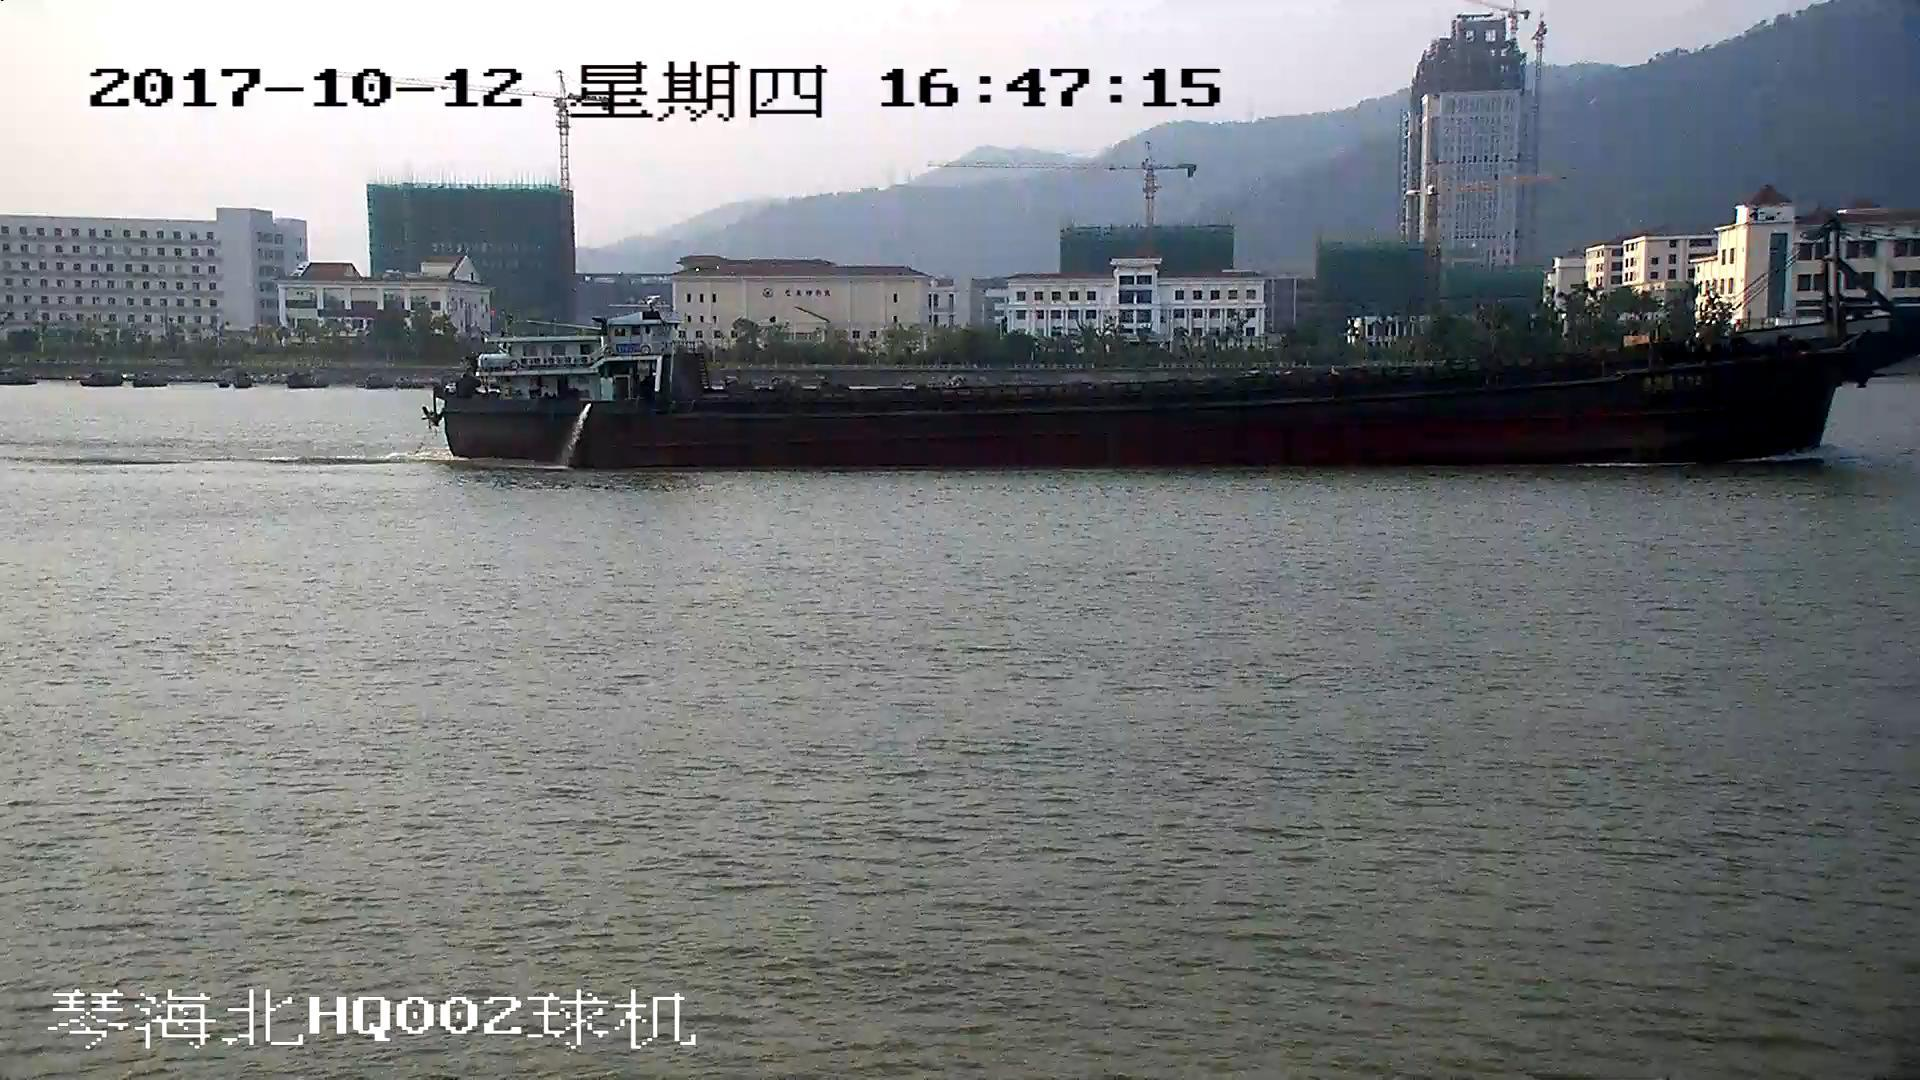Ship: (436, 222, 1920, 476)
